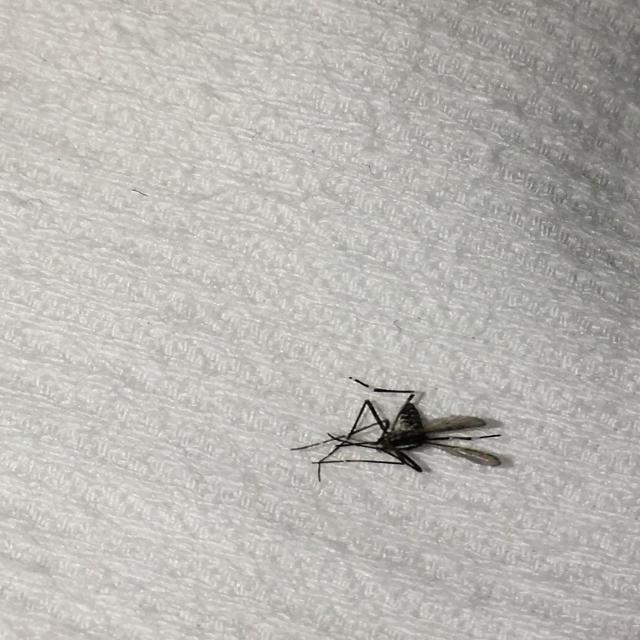albopictus: (281, 364, 512, 483)
